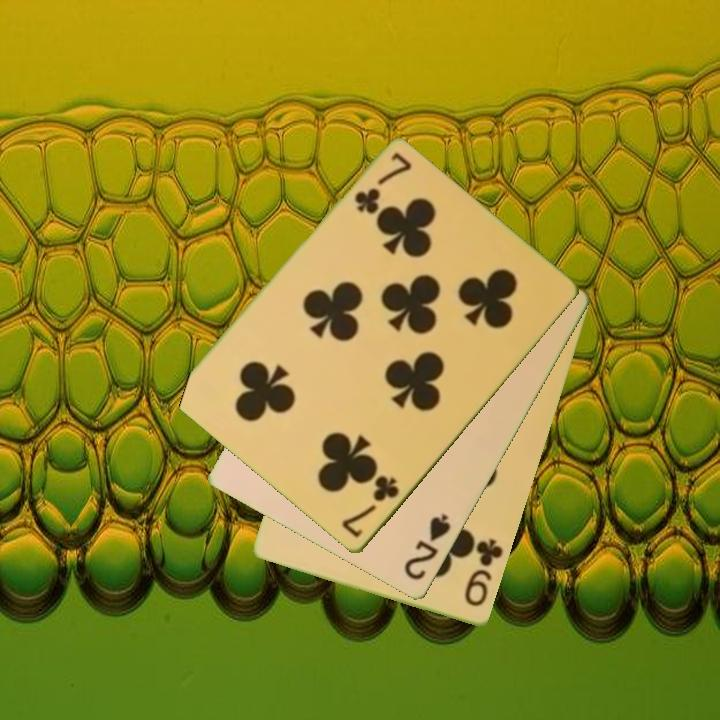2s: (400, 511, 454, 584)
7c: (338, 472, 403, 542), (350, 149, 414, 217)
9c: (461, 535, 507, 610)
